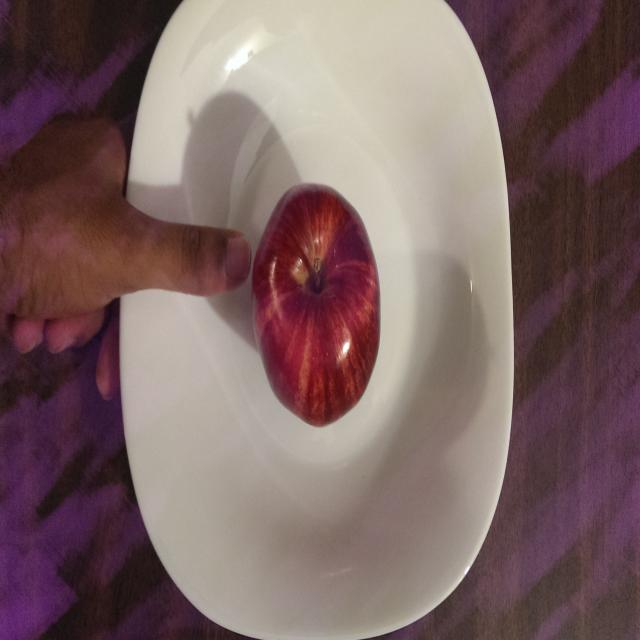apple: (250, 176, 388, 436)
